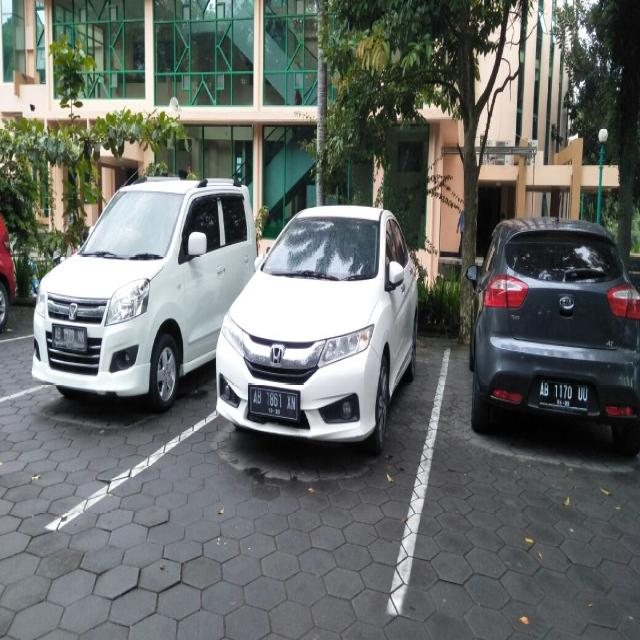plate: (537, 376, 590, 409), (248, 384, 298, 418), (52, 320, 86, 354)
